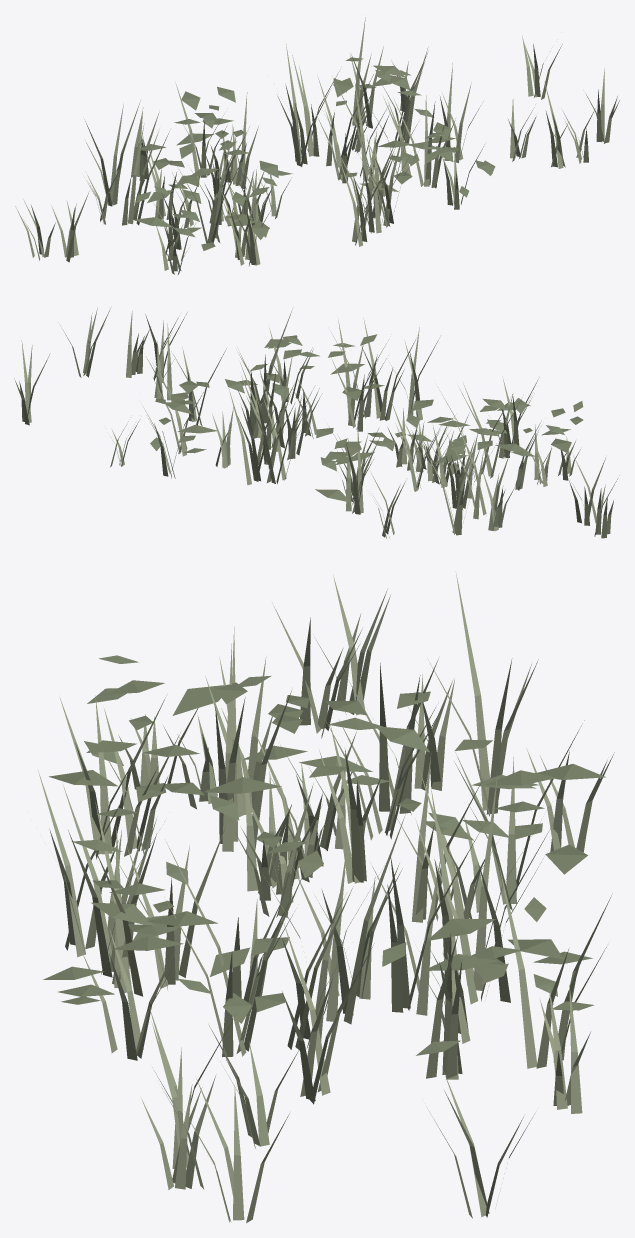
The model's file is AE_Encroachment_05.fbx.
3 renders of one model, top to bottom at view 1: azimuth 30°, elevation 25°; view 2: azimuth 150°, elevation 25°; view 3: azimuth 270°, elevation 25°, orthographic. The views are drawn at different scales.
Parts seen in each view (by area): view 1: AE_Encroachment_05_LOD0; view 2: AE_Encroachment_05_LOD0; view 3: AE_Encroachment_05_LOD0.
Part boxes in pixels (bbox=[...]): AE_Encroachment_05_LOD0: bbox=[15, 17, 619, 274]; AE_Encroachment_05_LOD0: bbox=[14, 307, 619, 538]; AE_Encroachment_05_LOD0: bbox=[37, 571, 614, 1223].
Size of what is drawn, in the model's own units: 570 by 103 by 260.
